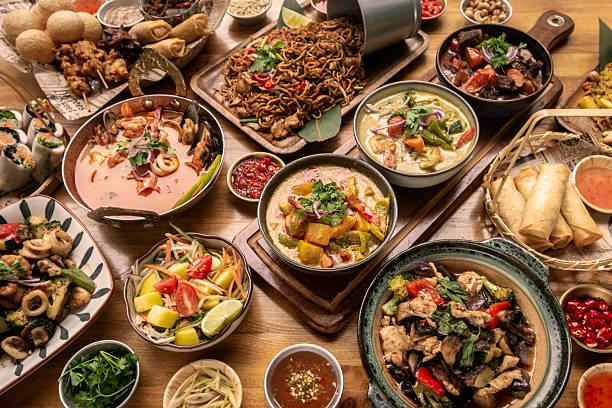Braised Crucian Carp: (354, 237, 570, 405), (0, 194, 112, 396), (480, 108, 611, 268), (59, 94, 219, 221), (220, 15, 364, 138), (256, 152, 391, 276), (124, 232, 252, 351), (353, 79, 477, 188), (435, 23, 555, 120)
